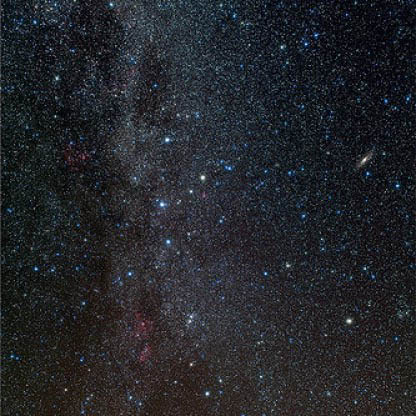Cassiopeia: (114, 255, 138, 285), (151, 195, 174, 219), (186, 171, 207, 195), (157, 130, 177, 149), (156, 232, 175, 251)
